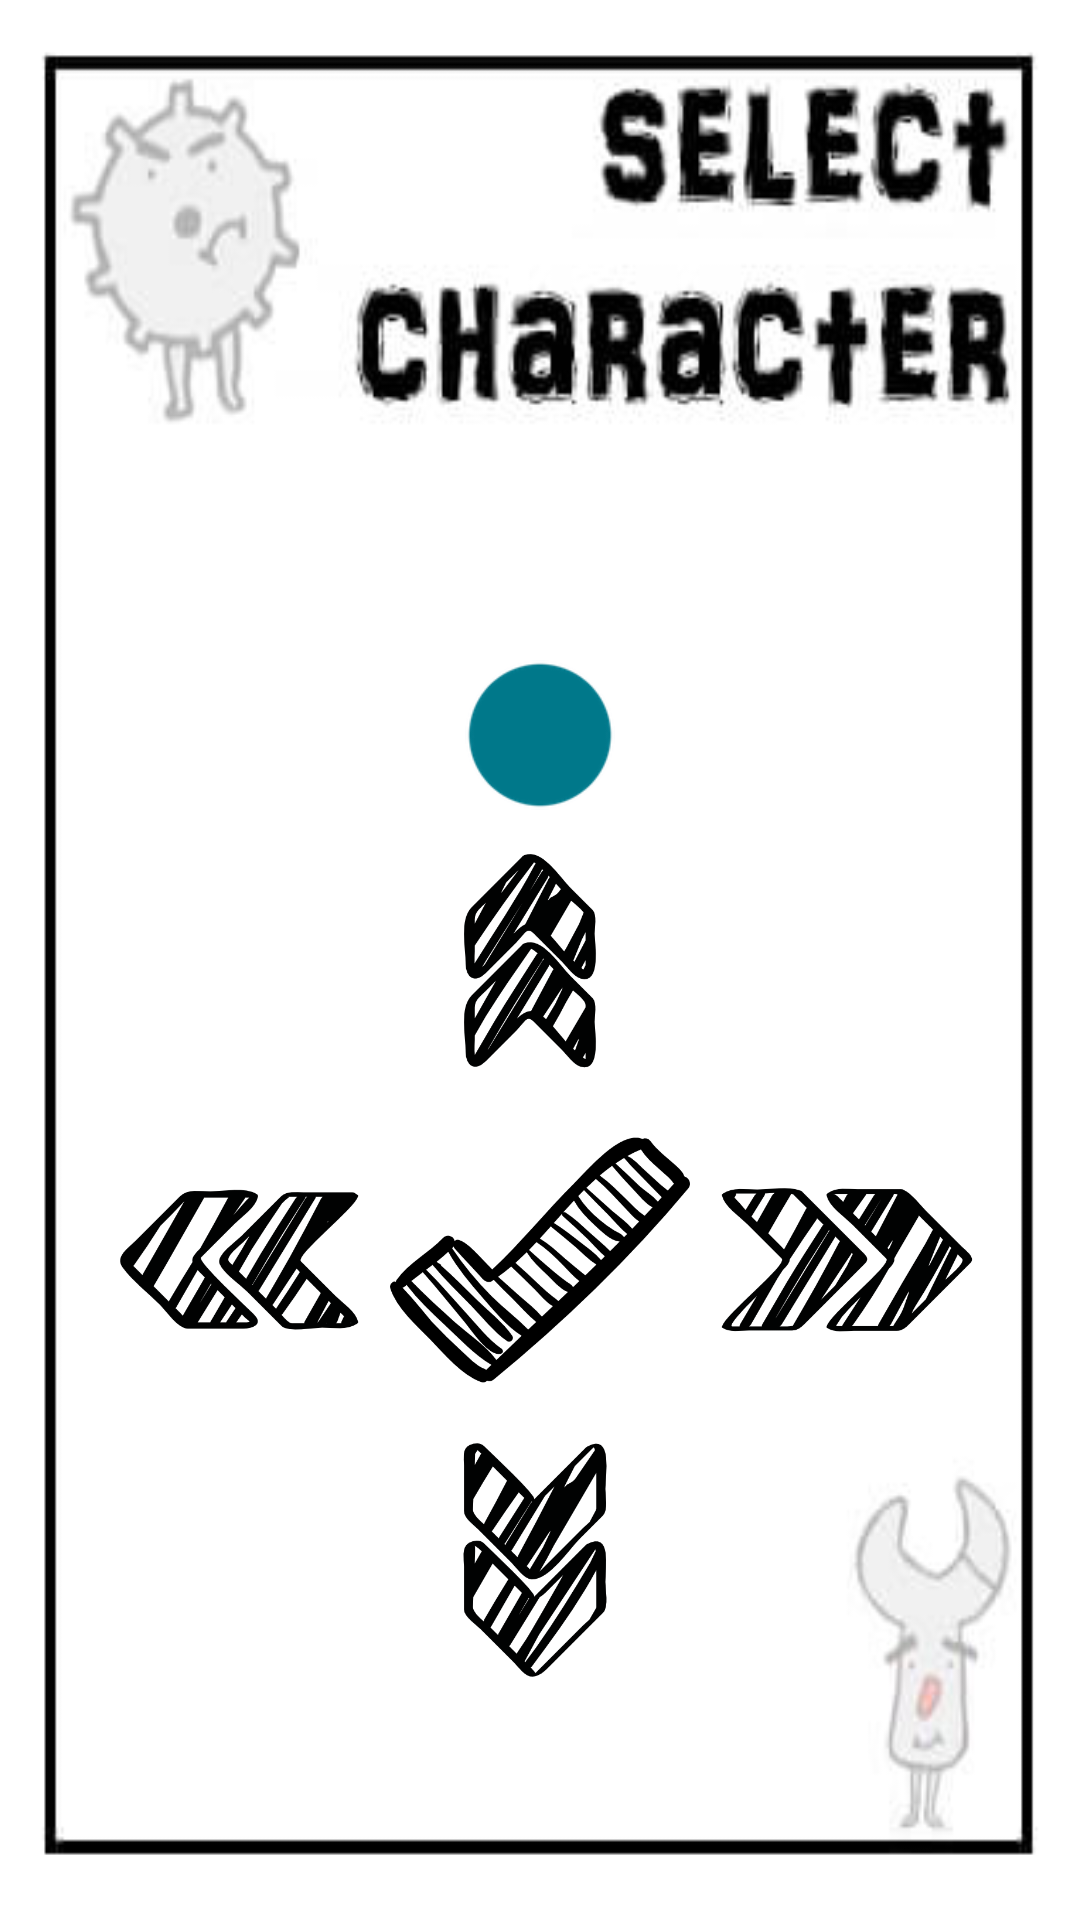

Locate icon controls on the screen. Image size 1080px×1920px, boxes as {"x1": x1, "y1": y1, "x2": x2, "y2": y2}.
down: {"x1": 463, "y1": 1443, "x2": 607, "y2": 1677}
left: {"x1": 120, "y1": 1189, "x2": 359, "y2": 1330}
right: {"x1": 721, "y1": 1188, "x2": 972, "y2": 1332}
